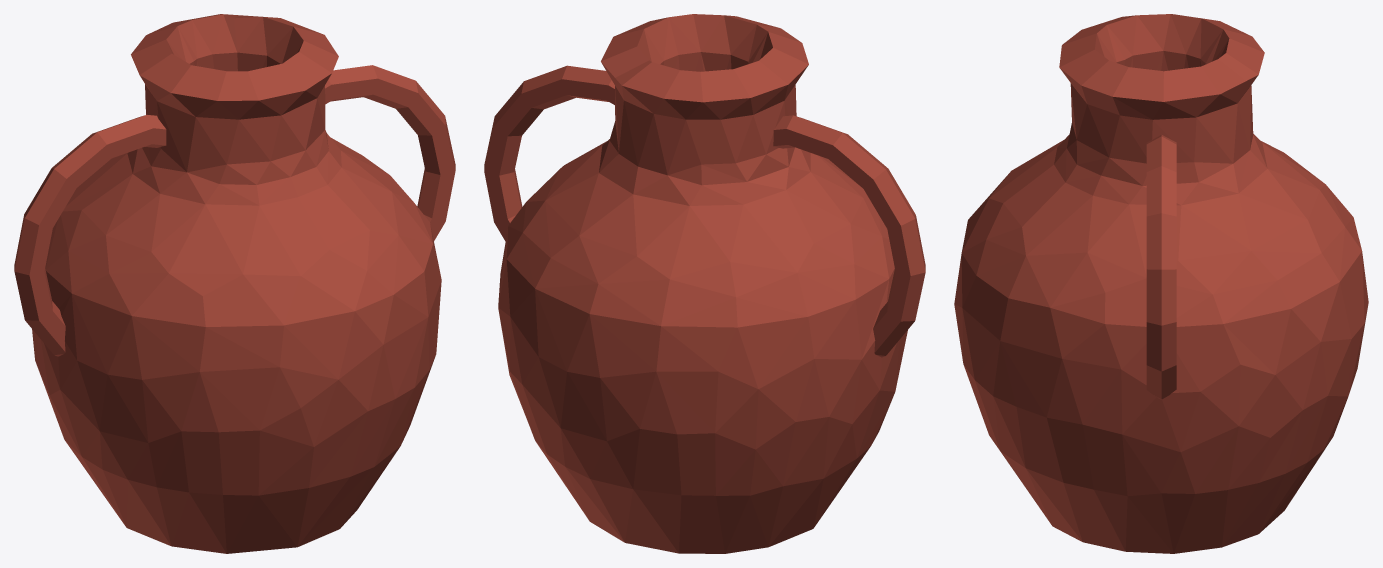
Rendered from Pottery 5_2b.fbx.
3 renders of one model, left to right at view 1: azimuth 30°, elevation 25°; view 2: azimuth 150°, elevation 25°; view 3: azimuth 270°, elevation 25°, orthographic.
Parts seen in each view (by area): view 1: Pottery 5_2b.006, Pottery 5_2b.001, Pottery 5_2b, Pottery 5_2b.002, Pottery 5_2b.004, Pottery 5_2b.003; view 2: Pottery 5_2b.006, Pottery 5_2b.003, Pottery 5_2b.005, Pottery 5_2b, Pottery 5_2b.002, Pottery 5_2b.001; view 3: Pottery 5_2b.002, Pottery 5_2b.004, Pottery 5_2b.003, Pottery 5_2b, Pottery 5_2b.005, Pottery 5_2b.001, Pottery 5_2b.006.
Part boxes in pixels (bbox=[...]): Pottery 5_2b.006: bbox=[14, 26, 226, 442]; Pottery 5_2b.001: bbox=[200, 52, 393, 446]; Pottery 5_2b: bbox=[36, 364, 400, 553]; Pottery 5_2b.002: bbox=[234, 15, 455, 243]; Pottery 5_2b.004: bbox=[368, 224, 441, 466]; Pottery 5_2b.003: bbox=[147, 14, 239, 71]; Pottery 5_2b.006: bbox=[700, 31, 925, 423]; Pottery 5_2b.003: bbox=[506, 60, 737, 377]; Pottery 5_2b.005: bbox=[498, 260, 795, 489]; Pottery 5_2b: bbox=[552, 390, 894, 553]; Pottery 5_2b.002: bbox=[484, 14, 703, 305]; Pottery 5_2b.001: bbox=[693, 14, 835, 165]; Pottery 5_2b.002: bbox=[1022, 59, 1290, 473]; Pottery 5_2b.004: bbox=[962, 227, 1122, 489]; Pottery 5_2b.003: bbox=[1205, 29, 1368, 341]; Pottery 5_2b: bbox=[964, 367, 1324, 553]; Pottery 5_2b.005: bbox=[1208, 307, 1367, 500]; Pottery 5_2b.001: bbox=[954, 25, 1124, 362]; Pottery 5_2b.006: bbox=[1082, 14, 1283, 152].
Size of the model in its own units: 65.52 by 65.32 by 53.29.
